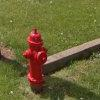Hydrant: (18, 18, 55, 92)
